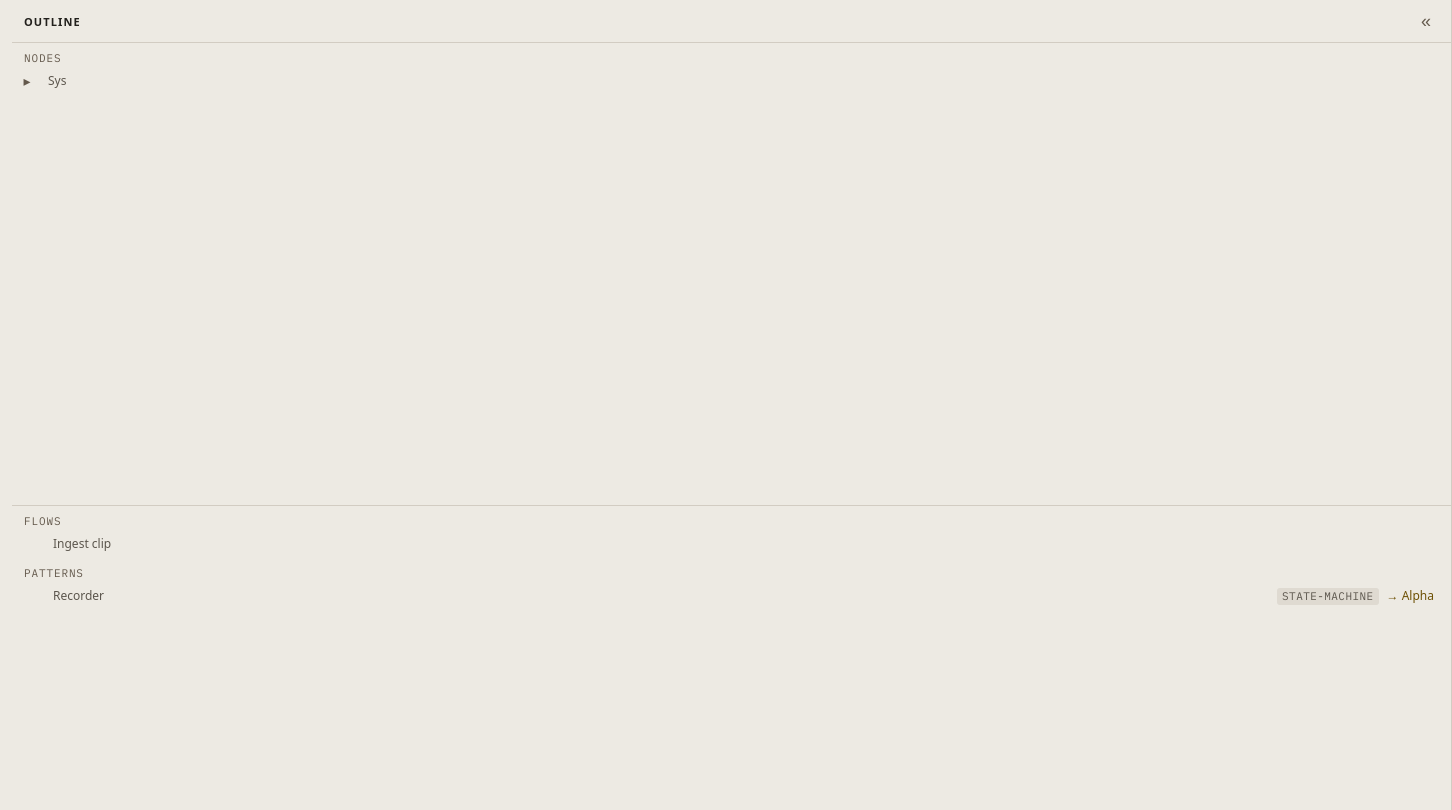
it: TreePanel — nodes › toggles a branch from the twisty without selecting the row
What coordinates should you click on to do the following:
click the button named "expand Sys"
I would click on:
 (27, 81)
Its box is [14,73,40,90].
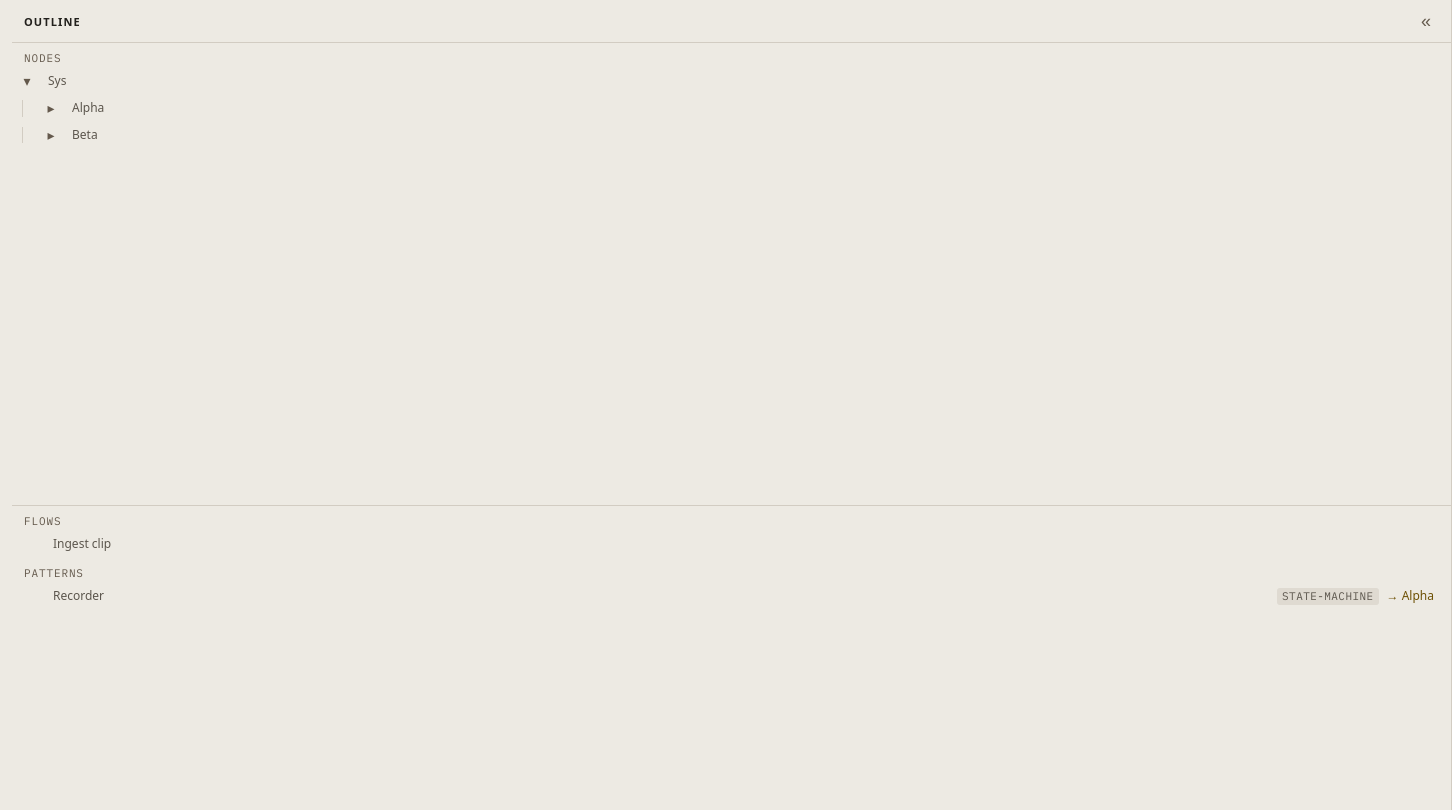
Now the button "Alpha" is shown, box [67,100,1439,117]
